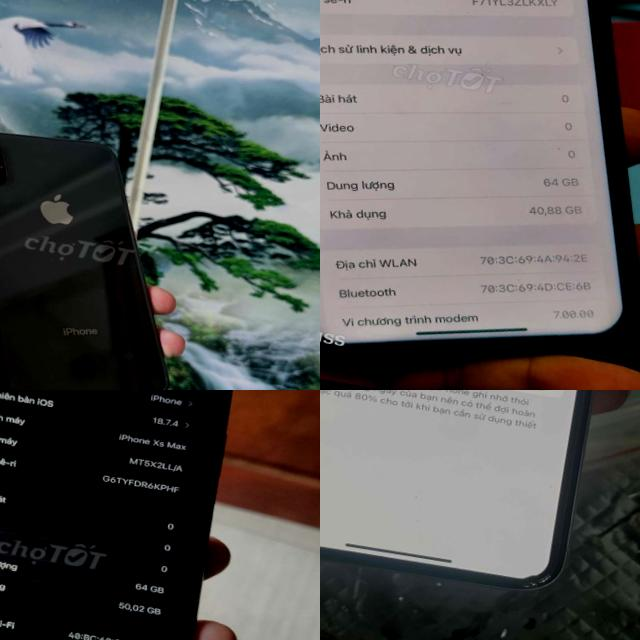gen_x_xs: (320, 0, 640, 359), (320, 390, 640, 599), (0, 390, 231, 640), (0, 132, 167, 390), (481, 279, 598, 299)
scratch: (41, 254, 60, 267), (0, 158, 10, 175)
